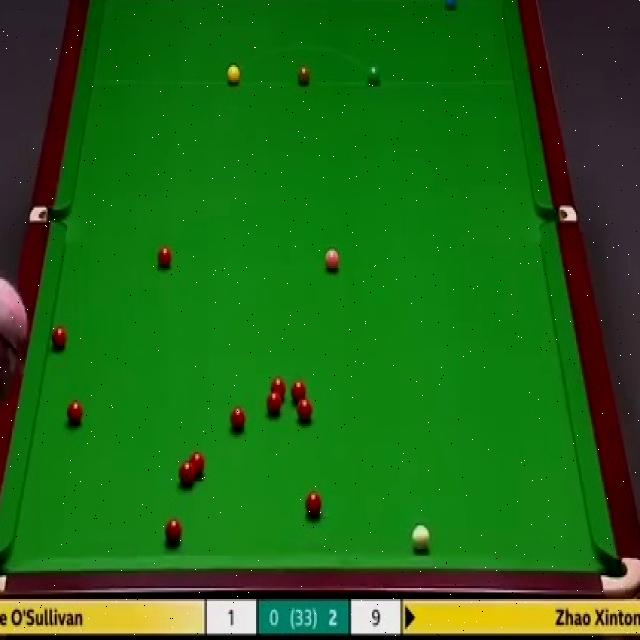blue-ball: (442, 0, 458, 13)
brown-ball: (297, 66, 311, 88)
green-ball: (365, 65, 380, 88)
pink-ball: (323, 244, 343, 274)
red-ball: (64, 397, 84, 429), (165, 519, 184, 548), (176, 462, 197, 488), (304, 492, 322, 521), (50, 326, 68, 354), (156, 244, 174, 270), (265, 392, 283, 418), (230, 409, 248, 434), (269, 377, 287, 400), (190, 451, 207, 475), (297, 398, 313, 422), (290, 381, 307, 402)
white-ball: (412, 523, 429, 551)
yellow-ball: (227, 64, 241, 87)
